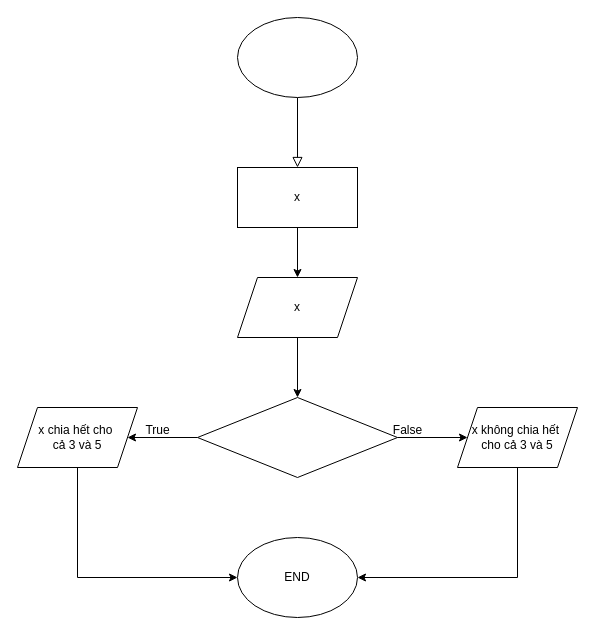
This 595x635 diagram has some shape labels left out. Each missing label, with the box of its shape:
Start: (236, 16, 358, 98)
x chia hết cho 3 và x chia hết cho 5: (196, 396, 398, 478)
